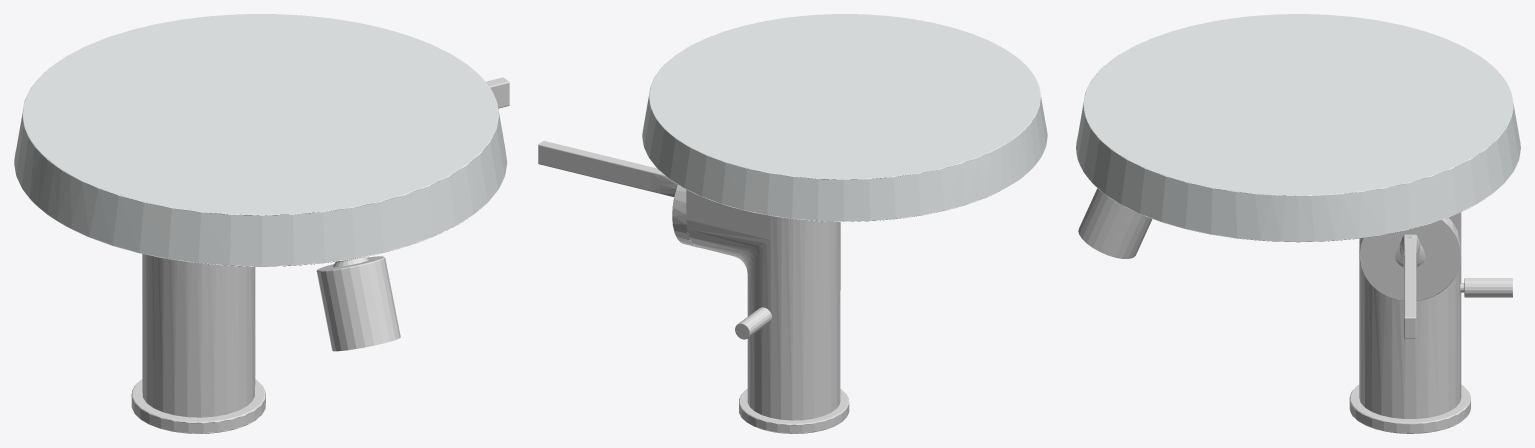
File: AEC_47526.glb
3 renders of one model, left to right at view 1: azimuth 30°, elevation 25°; view 2: azimuth 150°, elevation 25°; view 3: azimuth 270°, elevation 25°, orthographic. The views are drawn at different scales.
Visible parts, largest first — view 1: 0; view 2: 0; view 3: 0.
Part boxes in pixels (x1,y1,x2,y2): 0: [14, 14, 509, 433]; 0: [538, 14, 1047, 433]; 0: [1076, 14, 1520, 433].
Size of the model in its own units: 0.2236 by 0.138 by 0.1831.
Materials: 1 (1 with a texture image).
